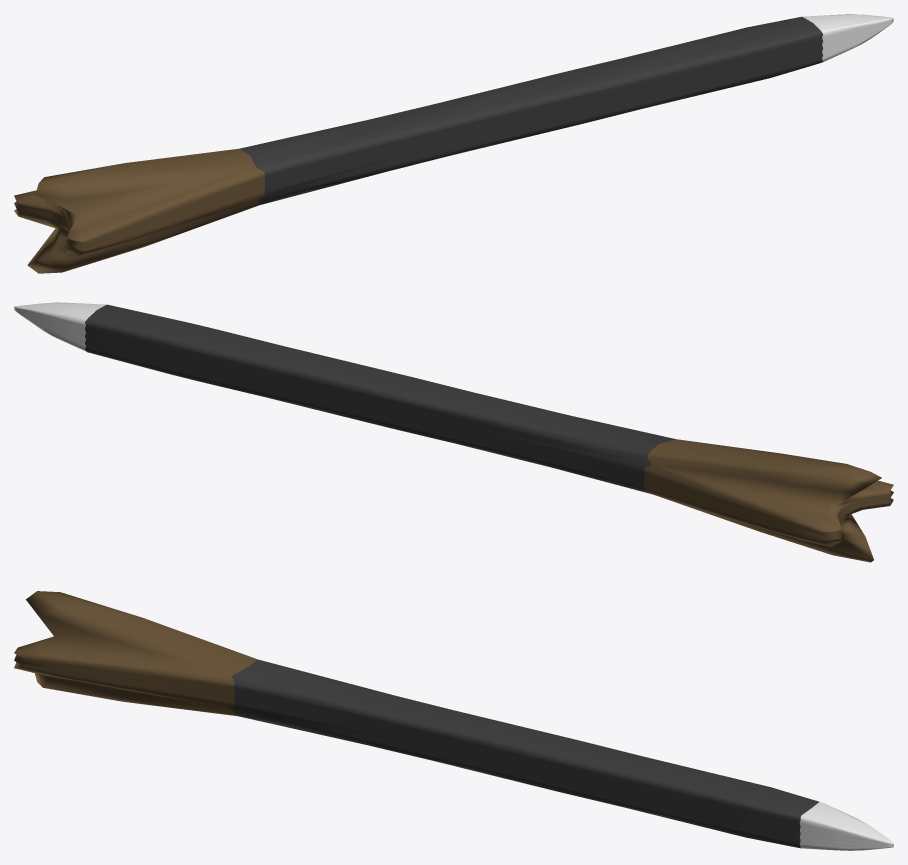
File: arrow.fbx
3 views of the same model, one above another, from view 1: azimuth 30°, elevation 25°; view 2: azimuth 150°, elevation 25°; view 3: azimuth 330°, elevation 25° (orthographic).
Visible parts, largest first — view 1: arrrow; view 2: arrrow; view 3: arrrow.
Part boxes in pixels (<box>): arrrow: <box>14,14,893,273</box>; arrrow: <box>14,302,893,562</box>; arrrow: <box>14,591,893,850</box>.
Size of the model in its own units: 11.03 by 1.11 by 1.4.
